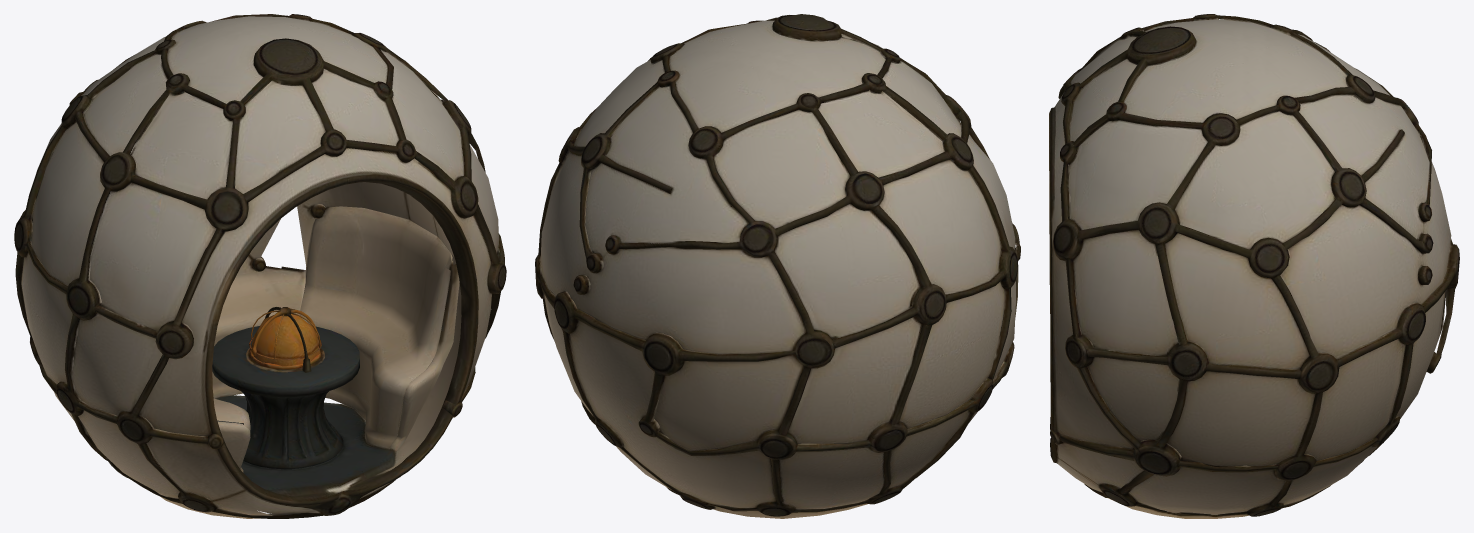
File: shared-mind-chamber.glb
3 renders of one model, left to right at view 1: azimuth 30°, elevation 25°; view 2: azimuth 150°, elevation 25°; view 3: azimuth 270°, elevation 25°, orthographic.
Visible parts, largest first — view 1: tripo_7ab32b0c_ecc9_4366_b1ec_c60afc76bd85; view 2: tripo_7ab32b0c_ecc9_4366_b1ec_c60afc76bd85; view 3: tripo_7ab32b0c_ecc9_4366_b1ec_c60afc76bd85.
Boxes of the visible parts, left/top/right/bottom form: tripo_7ab32b0c_ecc9_4366_b1ec_c60afc76bd85: left=14, top=14, right=506, bottom=518; tripo_7ab32b0c_ecc9_4366_b1ec_c60afc76bd85: left=535, top=14, right=1020, bottom=518; tripo_7ab32b0c_ecc9_4366_b1ec_c60afc76bd85: left=1049, top=14, right=1459, bottom=518.
Size of the model in its own units: 0.9995 by 0.9624 by 0.8306.
1 material, 1 textured.
